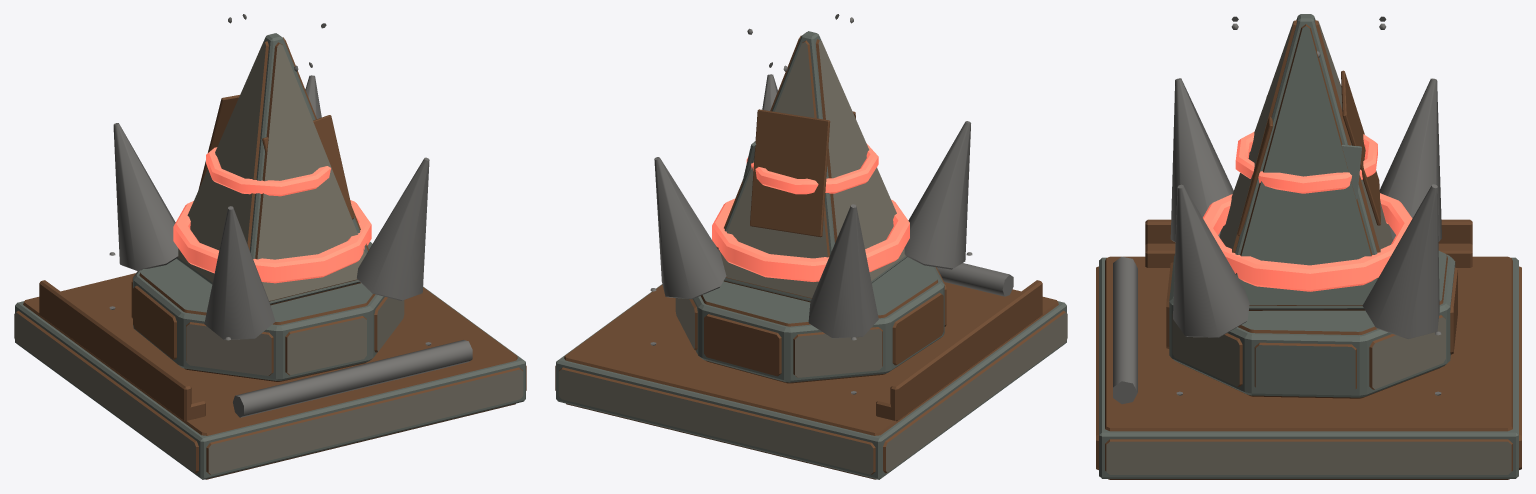
The model's file is R4X_DamageBooster.fbx.
3 renders of one model, left to right at view 1: azimuth 30°, elevation 25°; view 2: azimuth 150°, elevation 25°; view 3: azimuth 270°, elevation 25°, orthographic. The views are drawn at different scales.
Visible parts, largest first — view 1: R4X_DamageBooster_Body; view 2: R4X_DamageBooster_Body; view 3: R4X_DamageBooster_Body.
Boxes of the visible parts, left/top/right/bottom form: R4X_DamageBooster_Body: left=14, top=14, right=526, bottom=479; R4X_DamageBooster_Body: left=555, top=14, right=1067, bottom=479; R4X_DamageBooster_Body: left=1096, top=14, right=1521, bottom=479.
Size of the model in its own units: 0.52 by 0.5113 by 0.52.
